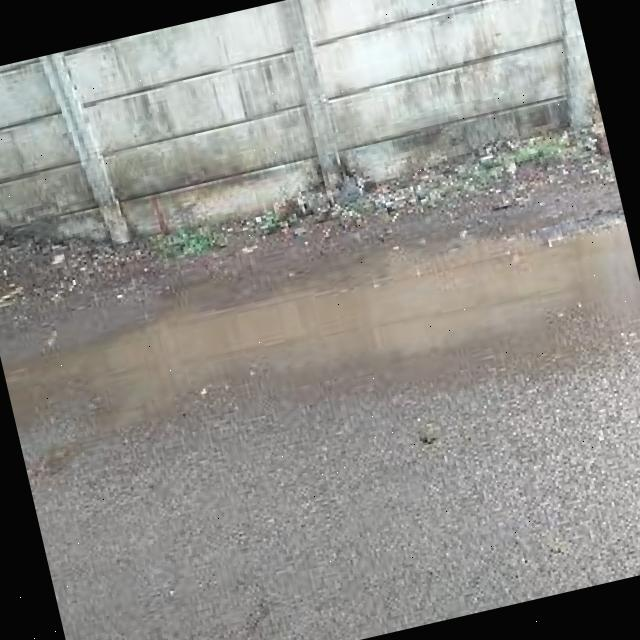stagnation: (0, 202, 640, 467)
